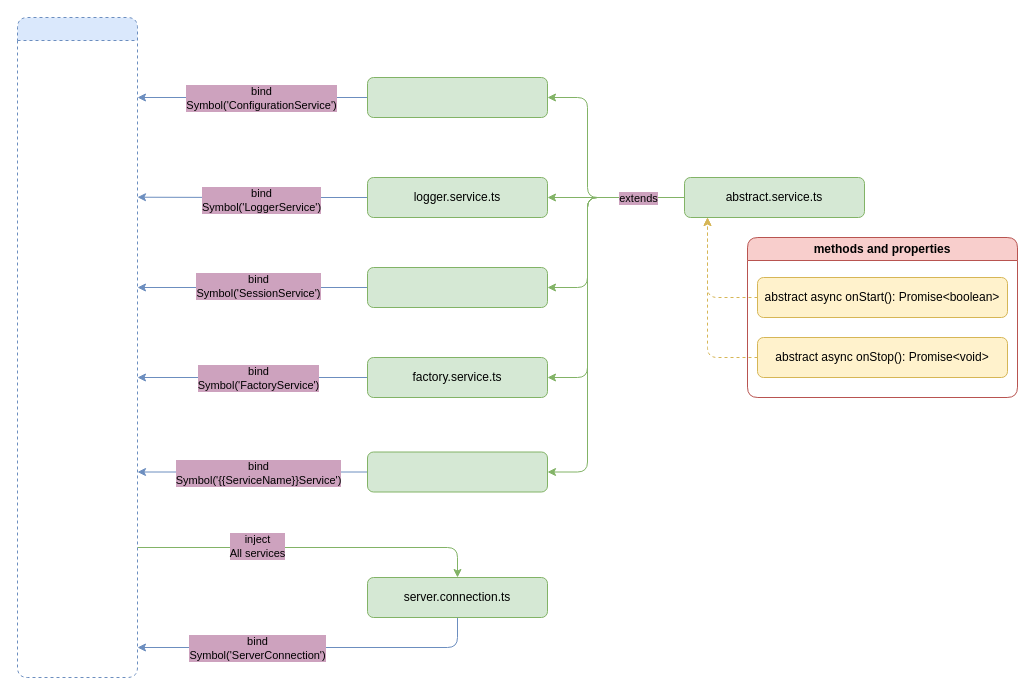
The diagram is 1035 pixels wide and 695 high, and some of its shapes have lost their labels. The centre of each missing label's shape, as x and y in pixels:
"configuration.service.ts" goes at point (457, 97).
"ioc.core.ts" goes at point (77, 347).
"session.service.ts" goes at point (457, 287).
"{{service-name}}.service.ts" goes at point (457, 471).
